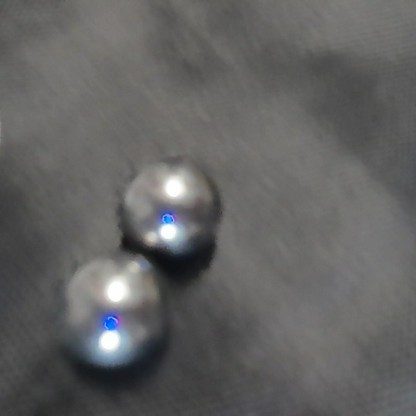ironball: (59, 254, 161, 370), (121, 162, 221, 254)
